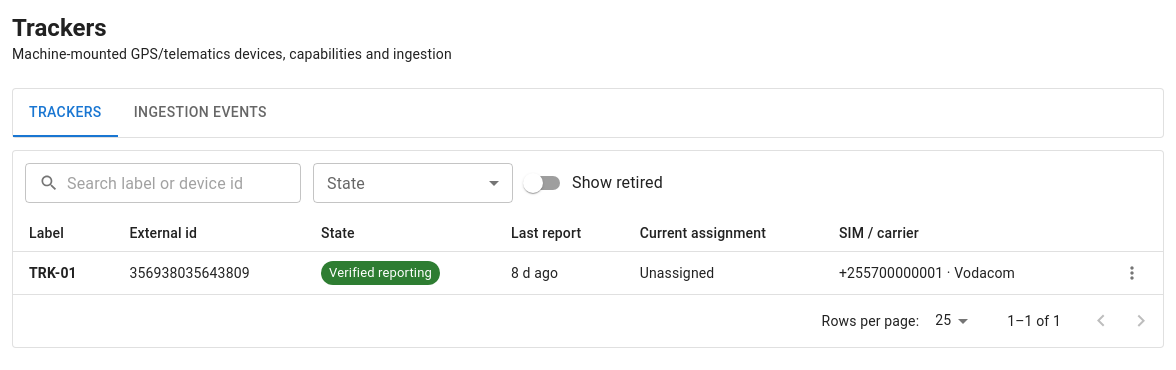
Test: tracker list row actions › offers only View details without tenant.tracker.write
This screenshot has width=1176, height=370.
What coordinates should you click on to do the following:
click the button named "Actions for tracker TRK-01"
I would click on:
 (1132, 273)
Its box is [1117, 258, 1147, 288].
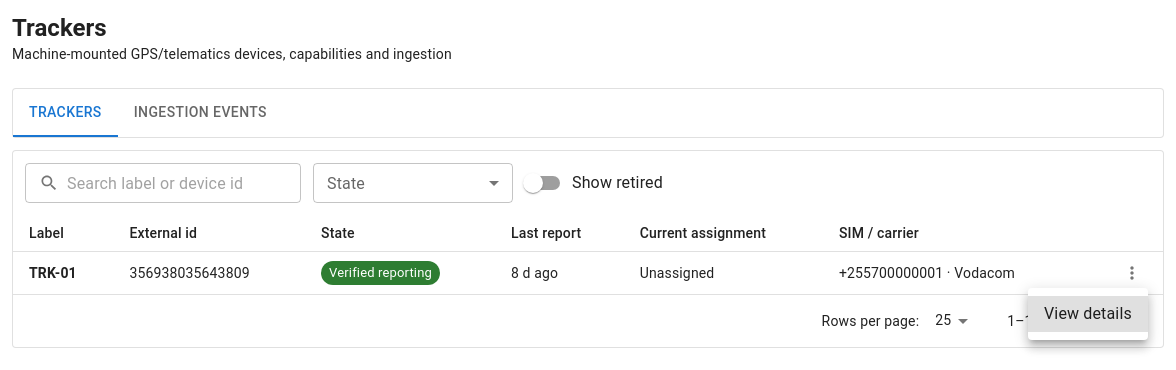
Check: the menu item "View details" is shown, box [1028, 296, 1148, 332]
